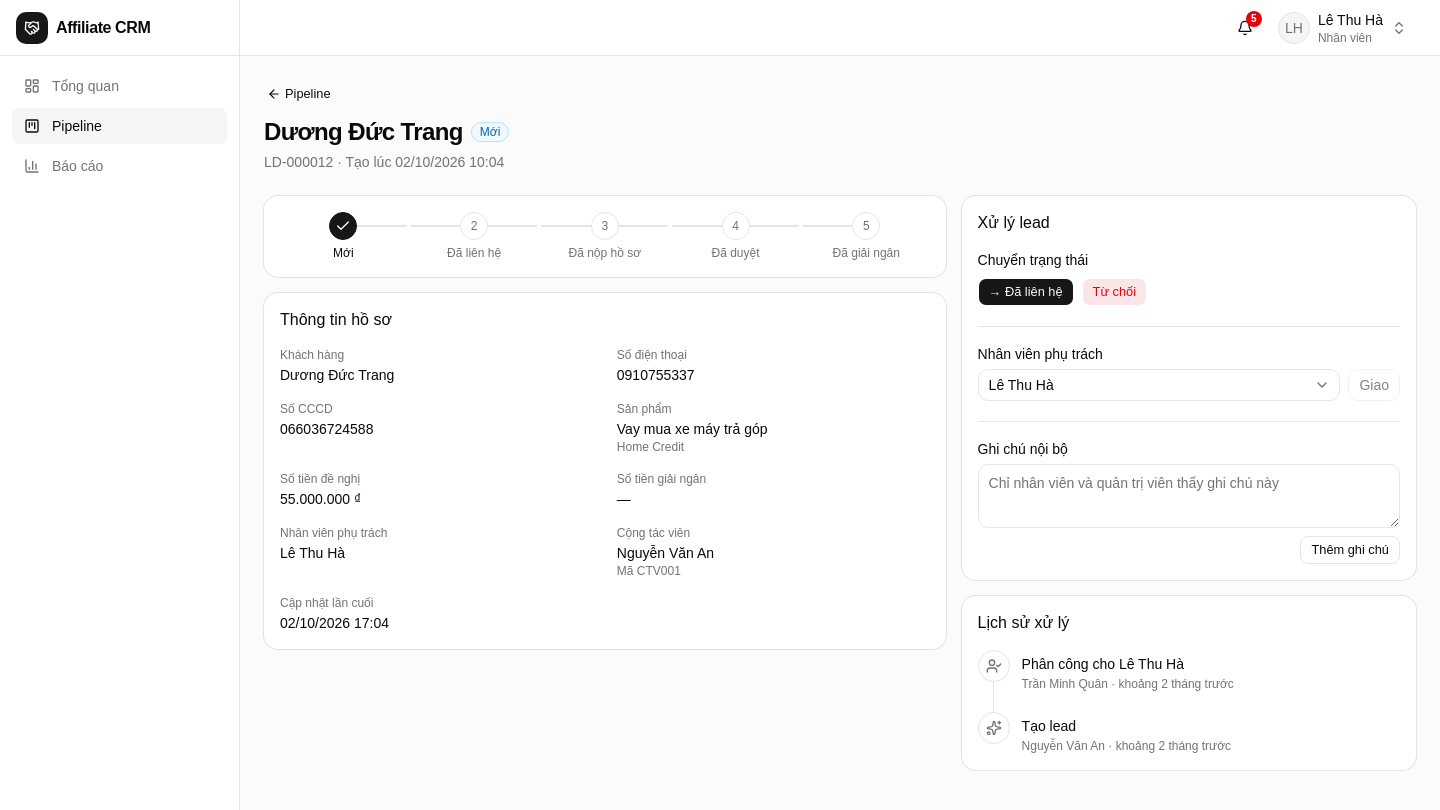
it: Lead actions (staff) › reloads the lead when someone else changed it first (409 CONCURRENT_UPDATE)
This screenshot has width=1440, height=810.
Expected: the heading "Xử lý lead" is shown, [978,214,1050,231]
Expected: the list named "Lịch sử xử lý" is shown, [978,650,1234,753]
Click the button "→ Đã liên hệ" at (1026, 292), box [978,278,1074,306]
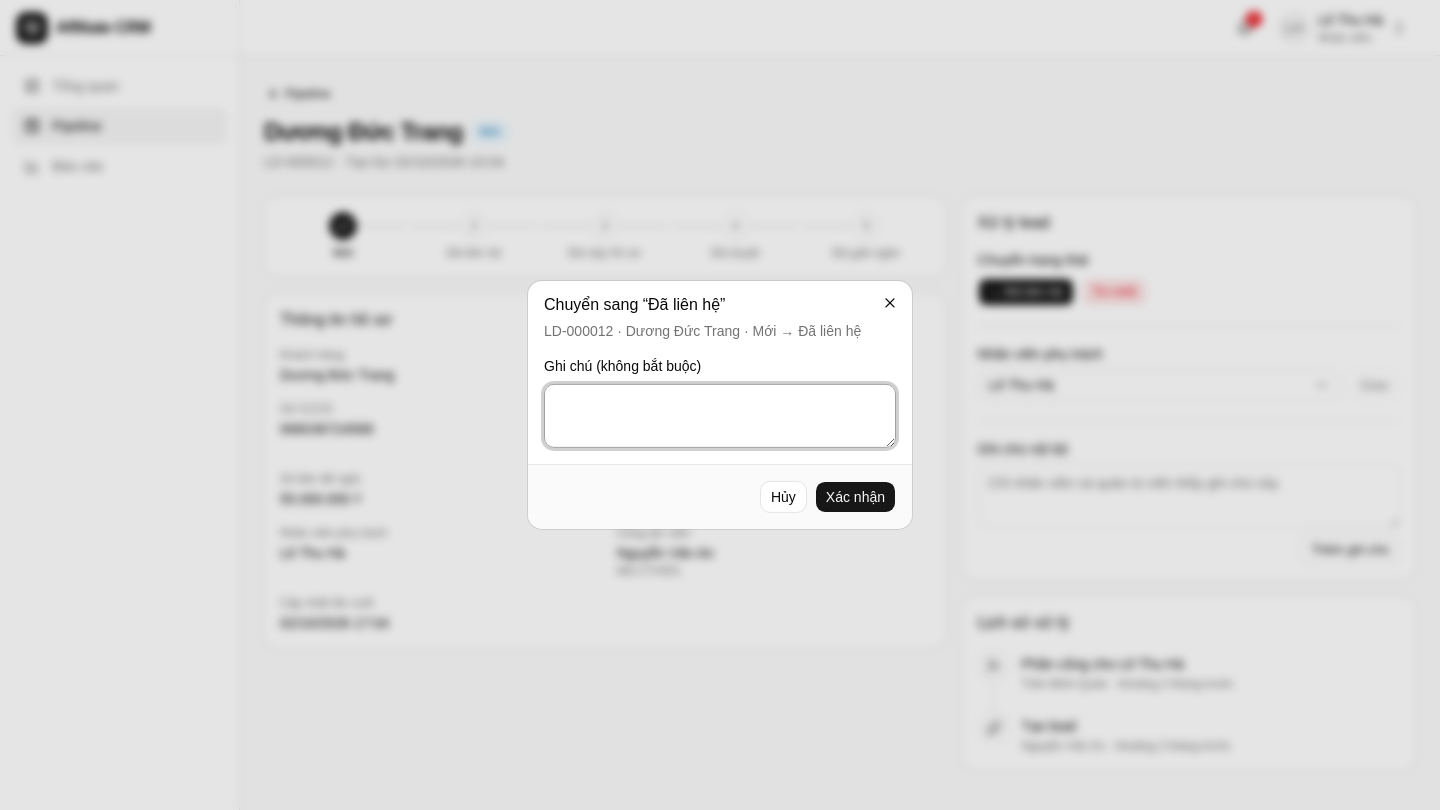
Click the button "Xác nhận" at (855, 497), box [815,481,896,513]
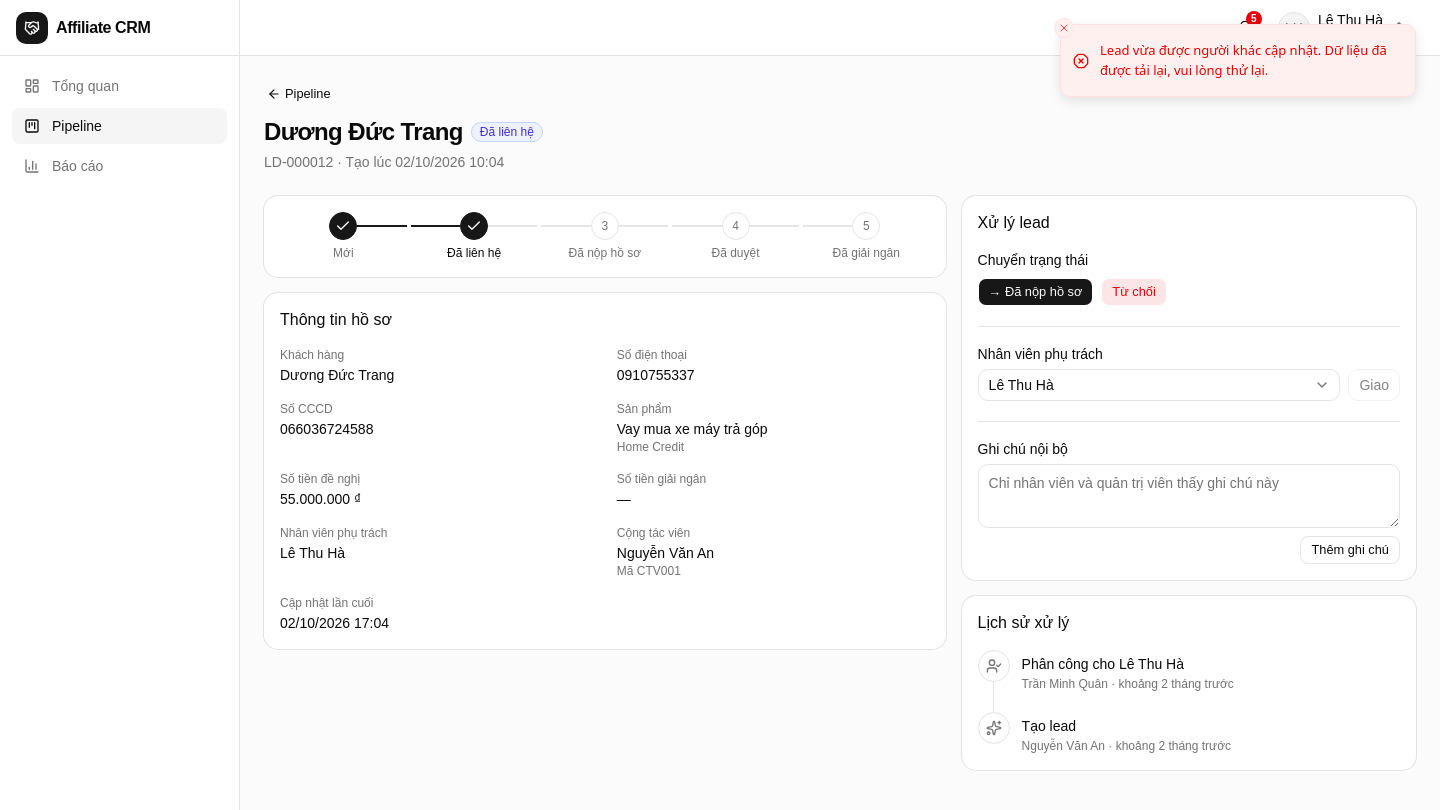
Result: the text "Lead vừa được người khác cập nhật" is shown at [1100,41,1387,78]
Result: the dialog is gone
Result: the button "→ Đã nộp hồ sơ" is shown at [978,278,1093,306]
